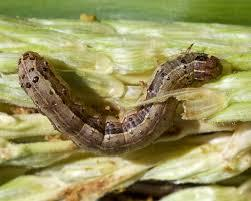fallarmy_worm: (13, 49, 224, 147)
